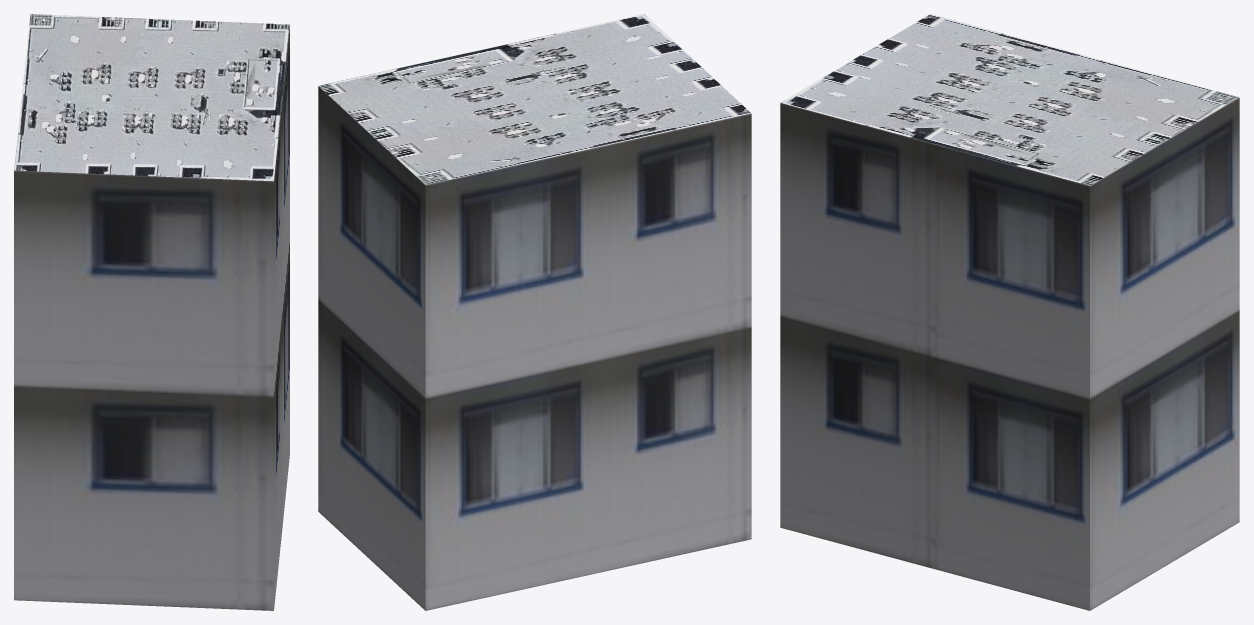
Rendered from ResTex__2466.fbx.
The picture shows the model from 3 angles, left to right: view 1: azimuth 30°, elevation 25°; view 2: azimuth 150°, elevation 25°; view 3: azimuth 270°, elevation 25°; orthographic projection.
Parts seen in each view (by area): view 1: CityEngineMaterial_9_m, CityEngineMaterial_4_m; view 2: CityEngineMaterial_9_m, CityEngineMaterial_4_m; view 3: CityEngineMaterial_9_m, CityEngineMaterial_4_m.
Boxes of the visible parts, x1=… form: CityEngineMaterial_9_m: x1=14, y1=26, x2=289, y2=610; CityEngineMaterial_4_m: x1=14, y1=14, x2=289, y2=181; CityEngineMaterial_9_m: x1=318, y1=86, x2=751, y2=610; CityEngineMaterial_4_m: x1=318, y1=14, x2=751, y2=184; CityEngineMaterial_9_m: x1=780, y1=97, x2=1239, y2=610; CityEngineMaterial_4_m: x1=780, y1=14, x2=1238, y2=185.
Size of the model in its own units: 5.21 by 6 by 5.88.
2 materials, 2 textured.
